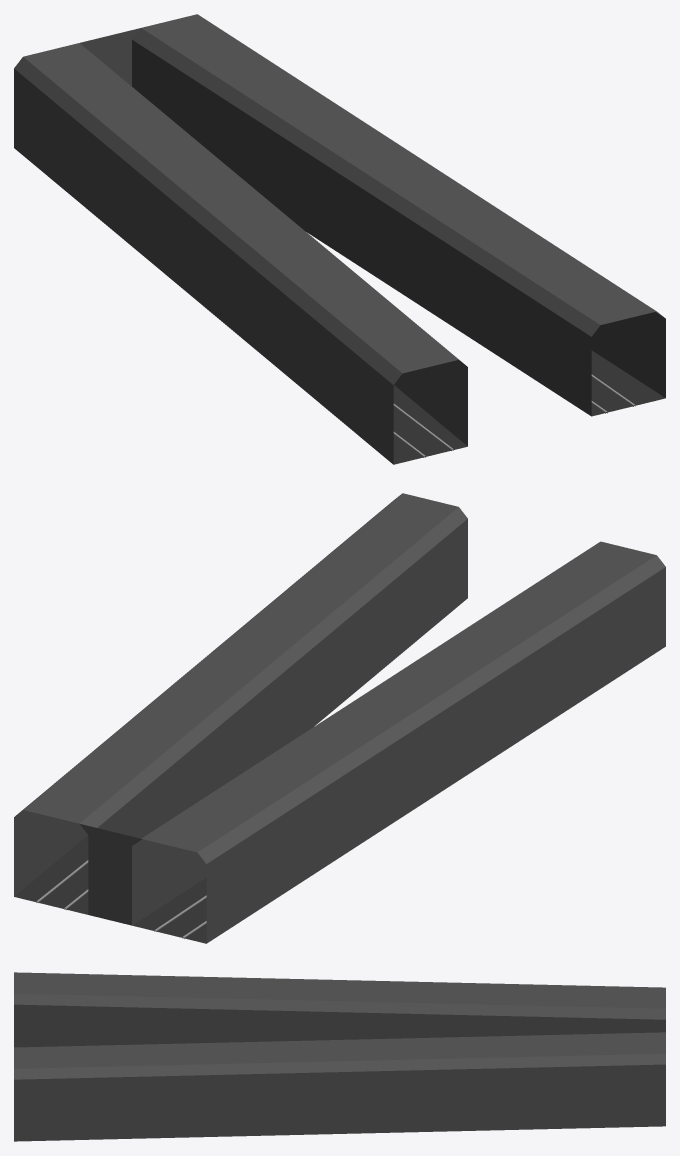
Rendered from SM_Floor_Metro_07.fbx.
3 renders of one model, top to bottom at view 1: azimuth 30°, elevation 25°; view 2: azimuth 150°, elevation 25°; view 3: azimuth 270°, elevation 25°, orthographic. The views are drawn at different scales.
Parts seen in each view (by area): view 1: SM_Floor_Metro_07; view 2: SM_Floor_Metro_07; view 3: SM_Floor_Metro_07.
Boxes of the visible parts, x1=… form: SM_Floor_Metro_07: x1=14, y1=14, x2=665, y2=464; SM_Floor_Metro_07: x1=14, y1=493, x2=665, y2=943; SM_Floor_Metro_07: x1=14, y1=972, x2=665, y2=1141.
Bounding box in the file's own units: 15 × 4.74 × 40.
